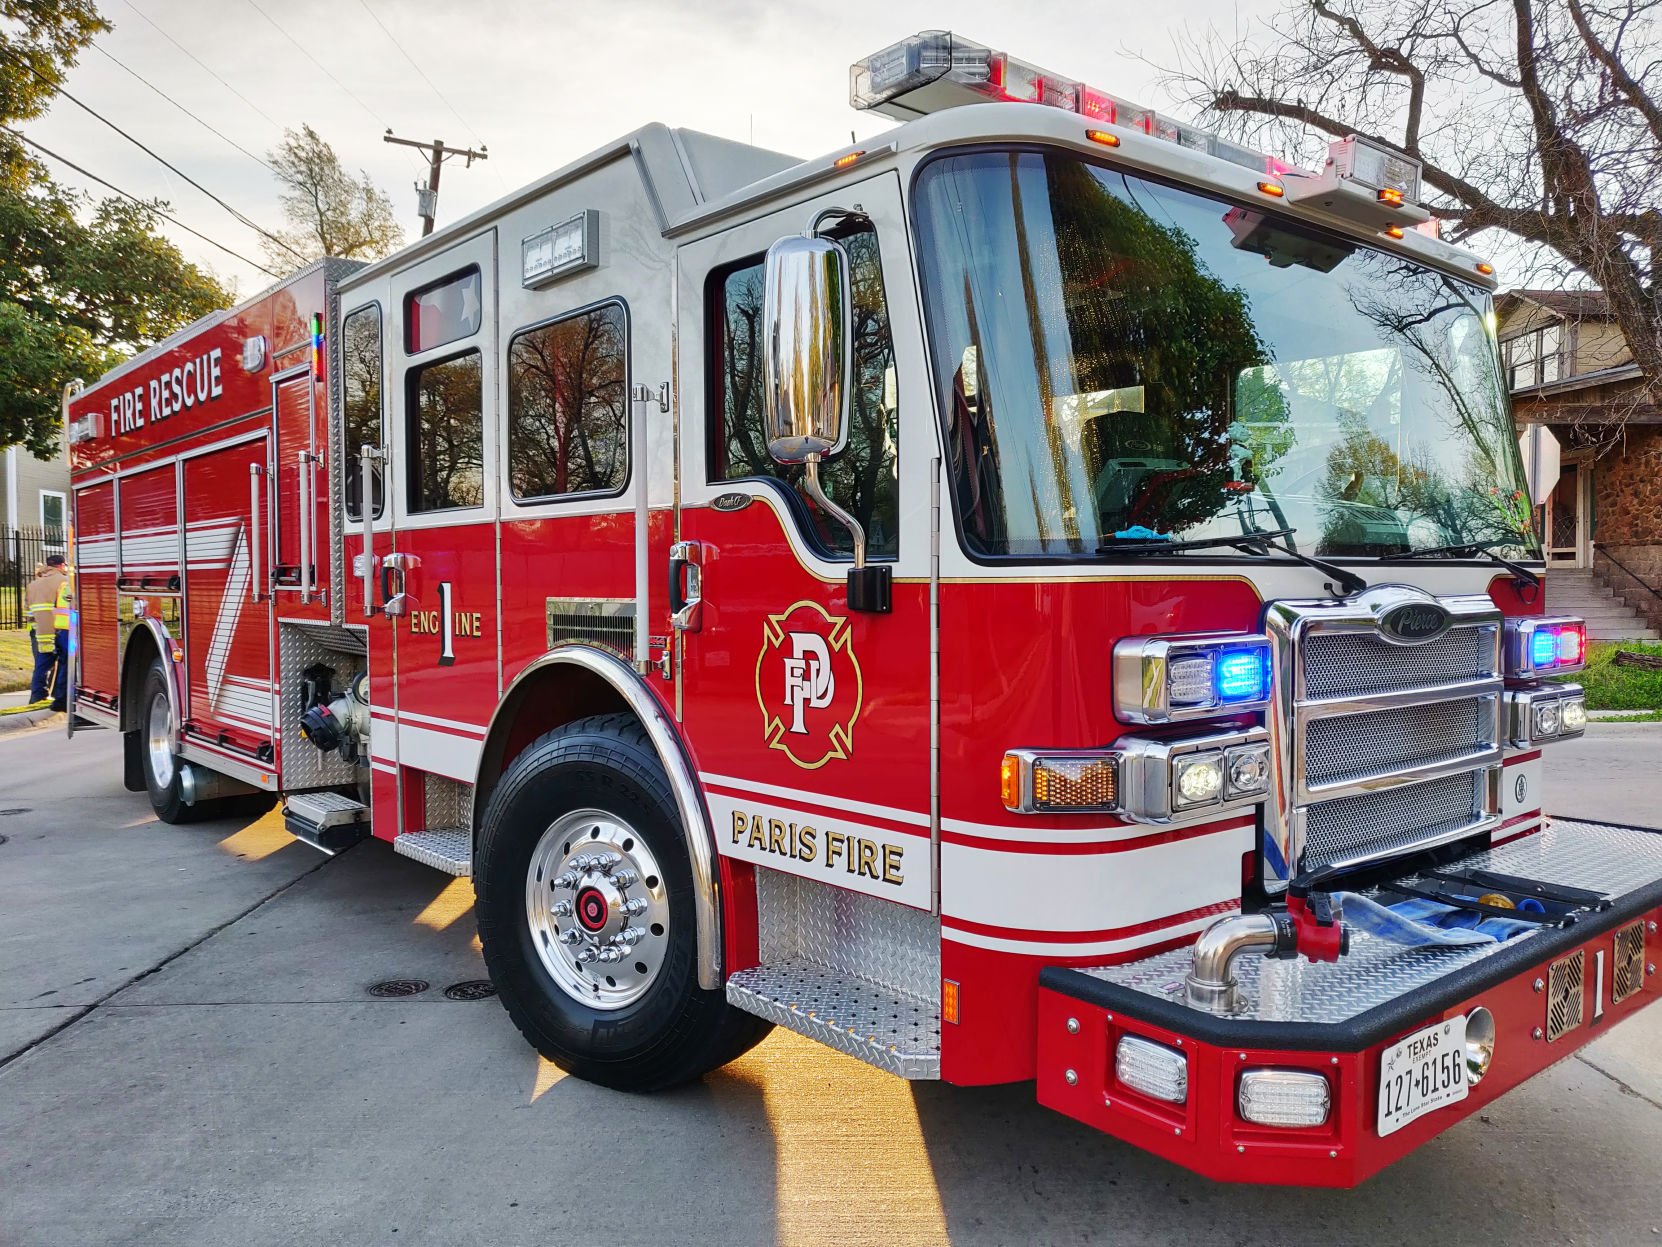firetruck: (48, 22, 1662, 1199)
